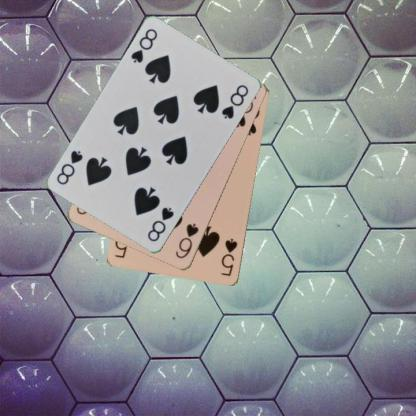5s: (219, 236, 240, 278)
6s: (173, 220, 200, 260)
8s: (128, 26, 159, 65), (145, 205, 176, 243)
